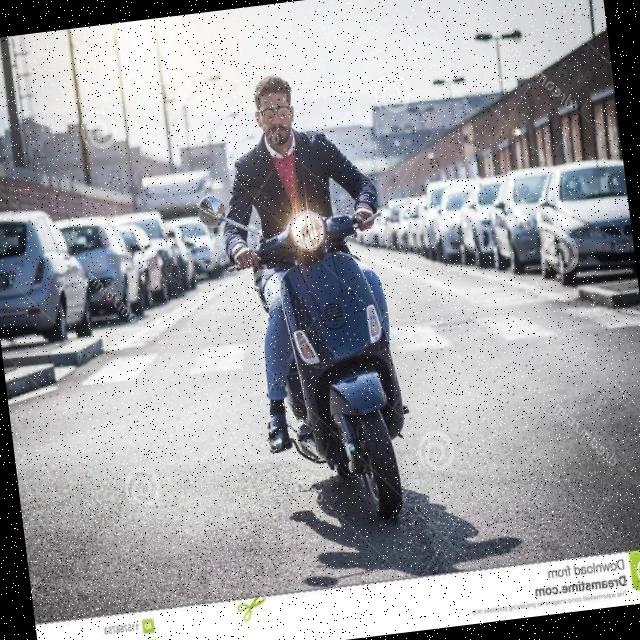No helmet: (251, 72, 307, 160)
